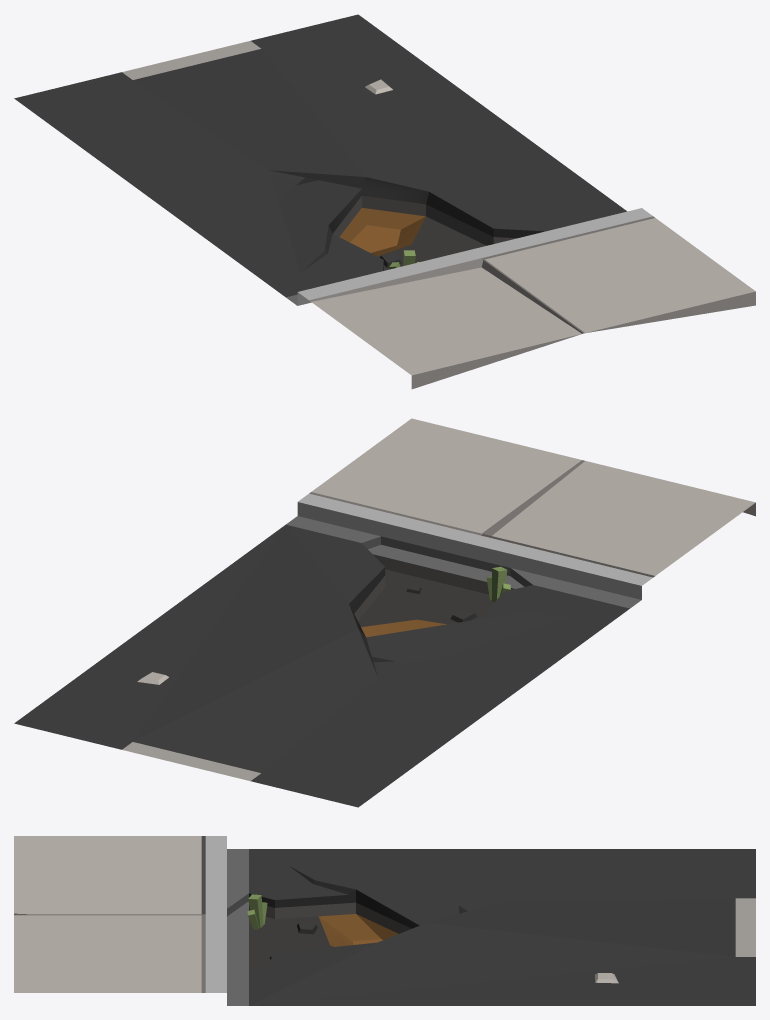
Rendered from SA_Env_Road_Straight_Damaged_01.fbx.
3 renders of one model, top to bottom at view 1: azimuth 30°, elevation 25°; view 2: azimuth 150°, elevation 25°; view 3: azimuth 270°, elevation 25°, orthographic. The views are drawn at different scales.
Visible parts, largest first — view 1: SA_Env_Road_Straight_Damaged_01; view 2: SA_Env_Road_Straight_Damaged_01; view 3: SA_Env_Road_Straight_Damaged_01.
Part boxes in pixels (x1,y1,x2,y2): SA_Env_Road_Straight_Damaged_01: (14,14,755,389); SA_Env_Road_Straight_Damaged_01: (14,418,755,807); SA_Env_Road_Straight_Damaged_01: (14,836,755,1005).
Size of the model in its own units: 5 by 0.6221 by 10.
Materials: 1 (1 with a texture image).
